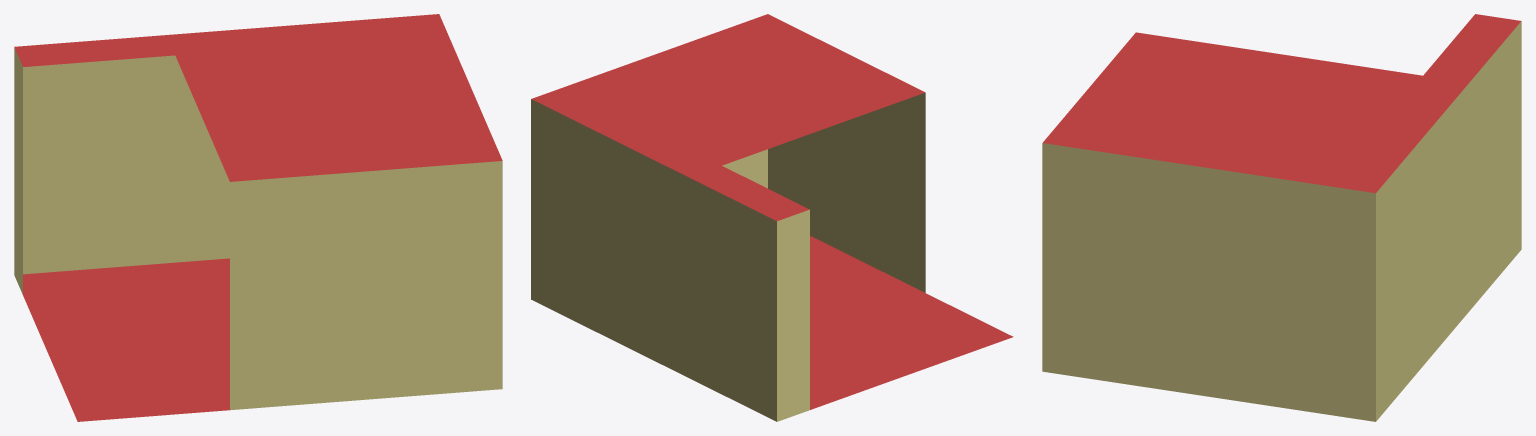
3 views of the same model, side by side, from view 1: azimuth 30°, elevation 25°; view 2: azimuth 150°, elevation 25°; view 3: azimuth 270°, elevation 25° (orthographic). The views are drawn at different scales.
Bounding box in the file's own units: 11.78 × 10.72 × 5.64.
